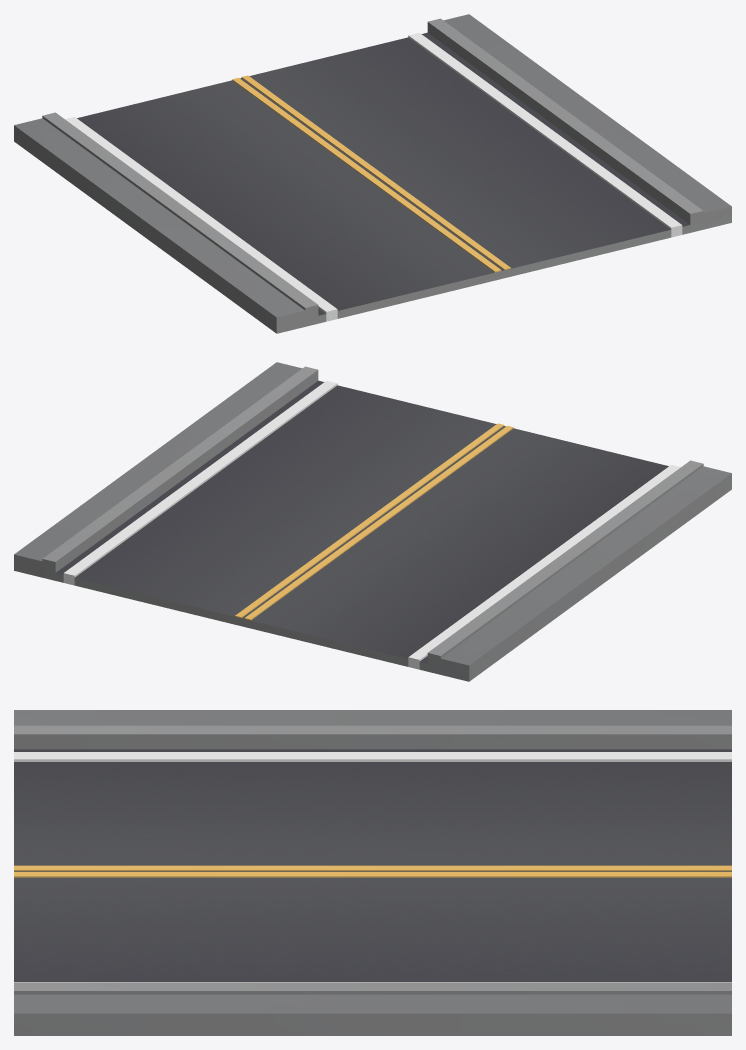
The model's file is road_I_2.glb.
The picture shows the model from 3 angles, top to bottom: view 1: azimuth 30°, elevation 25°; view 2: azimuth 150°, elevation 25°; view 3: azimuth 270°, elevation 25°; orthographic projection. The views are drawn at different scales.
Visible parts, largest first — view 1: road_I_2; view 2: road_I_2; view 3: road_I_2.
Boxes of the visible parts, <box> form: road_I_2: <box>14,14,731,333</box>; road_I_2: <box>14,362,731,681</box>; road_I_2: <box>14,710,731,1035</box>.
Size of the model in its own units: 12 by 0.4753 by 12.
1 material, 1 textured.
